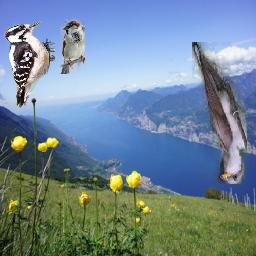Cuckoo: (193, 42, 248, 184)
Sparrow: (61, 20, 86, 75)
Woodpecker: (3, 22, 55, 109)
